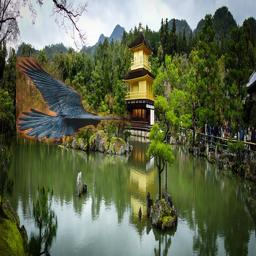Crow: (16, 57, 146, 145)
